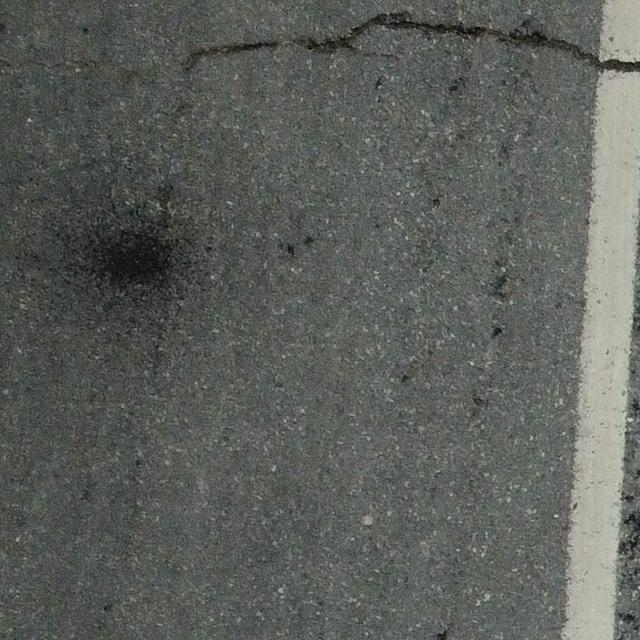TransverseCrack: (180, 11, 640, 74)
